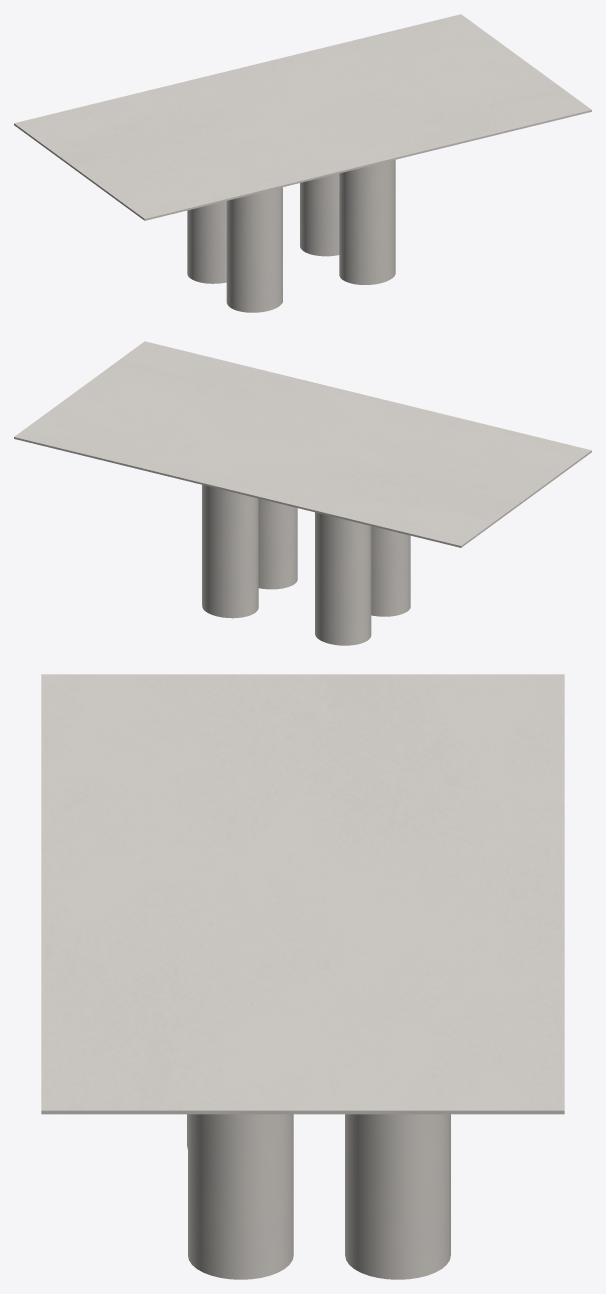
File: pearlwhite_recta_facet_grove.glb
3 renders of one model, top to bottom at view 1: azimuth 30°, elevation 25°; view 2: azimuth 150°, elevation 25°; view 3: azimuth 270°, elevation 25°, orthographic. The views are drawn at different scales.
Visible parts, largest first — view 1: facet_recta, grove; view 2: facet_recta, grove; view 3: facet_recta, grove.
Part boxes in pixels (x1,y1,x2,y2): facet_recta: (14,14,591,220); grove: (187,160,395,312); facet_recta: (14,341,591,547); grove: (202,485,410,645); facet_recta: (41,674,564,1114); grove: (187,1114,450,1279).
Size of the model in its own units: 7.5 by 2.53 by 3.8.
1 material, 1 textured.
